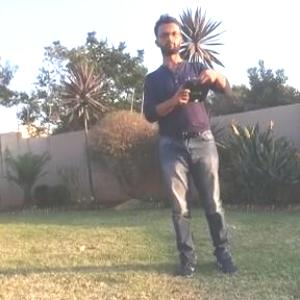follow: (142, 10, 244, 282)
